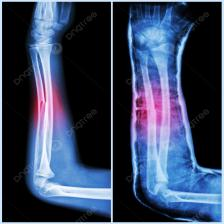open-compound-fracture: (25, 0, 221, 224)
